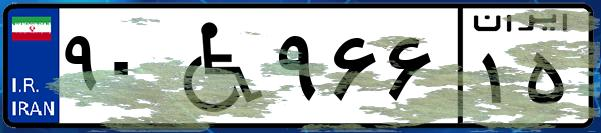0: (110, 28, 158, 98)
1: (475, 38, 525, 113)
5: (525, 38, 570, 115)
6: (385, 28, 445, 110), (330, 28, 385, 110)
9: (270, 28, 330, 110), (57, 26, 110, 100)
ژ (معلولین و جانبازان): (158, 12, 270, 120)
